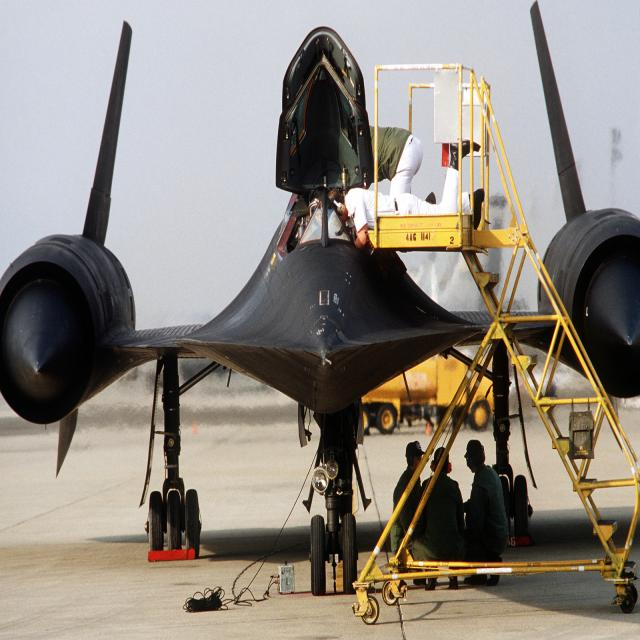MIL_Plane: (0, 1, 640, 596)
